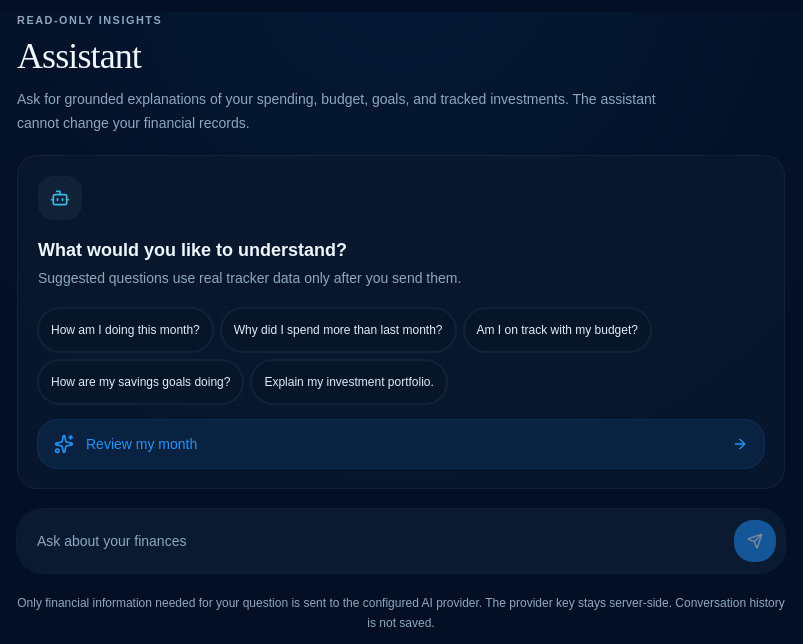
AssistantPage › clears in-memory conversation
This screenshot has width=803, height=644.
What coordinates should you click on to do the following:
click the button "How am I doing this month?"
I would click on:
 (125, 330)
Its box is [38,308,213,352].
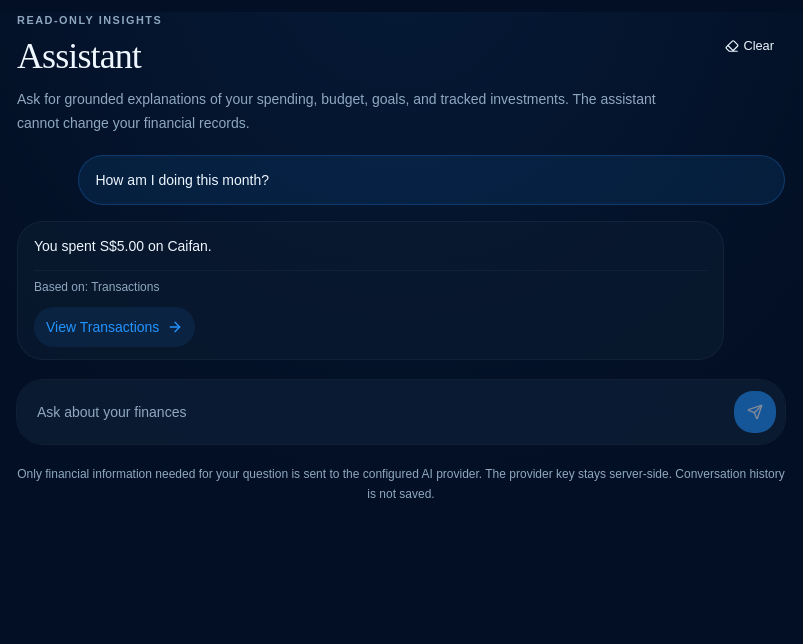
Now the text "You spent S$5.00 on Caifan." is shown, box [34,238,212,254]
What coordinates should you click on to do the following:
click the button "Clear"
I would click on:
 (750, 46)
Its box is [714,32,785,60].
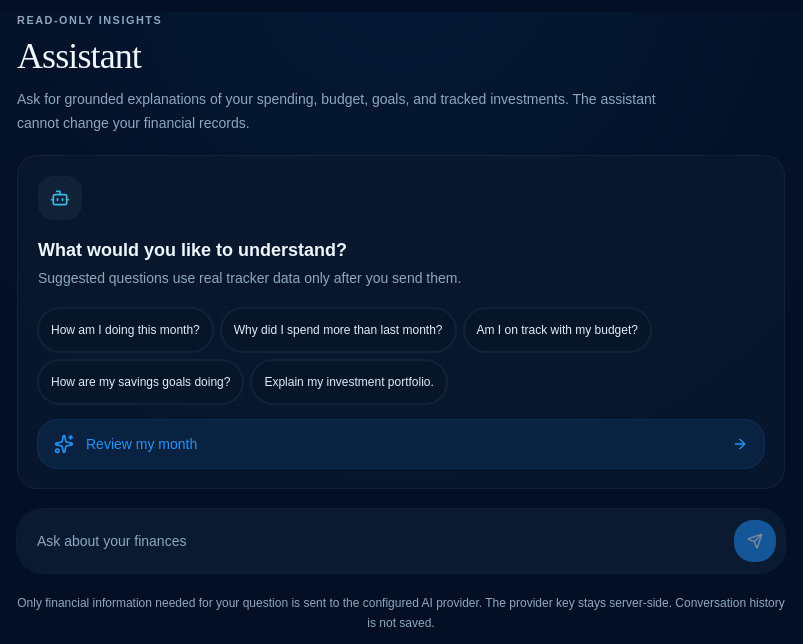
Now the text "You spent S$5.00 on Caifan." is gone
